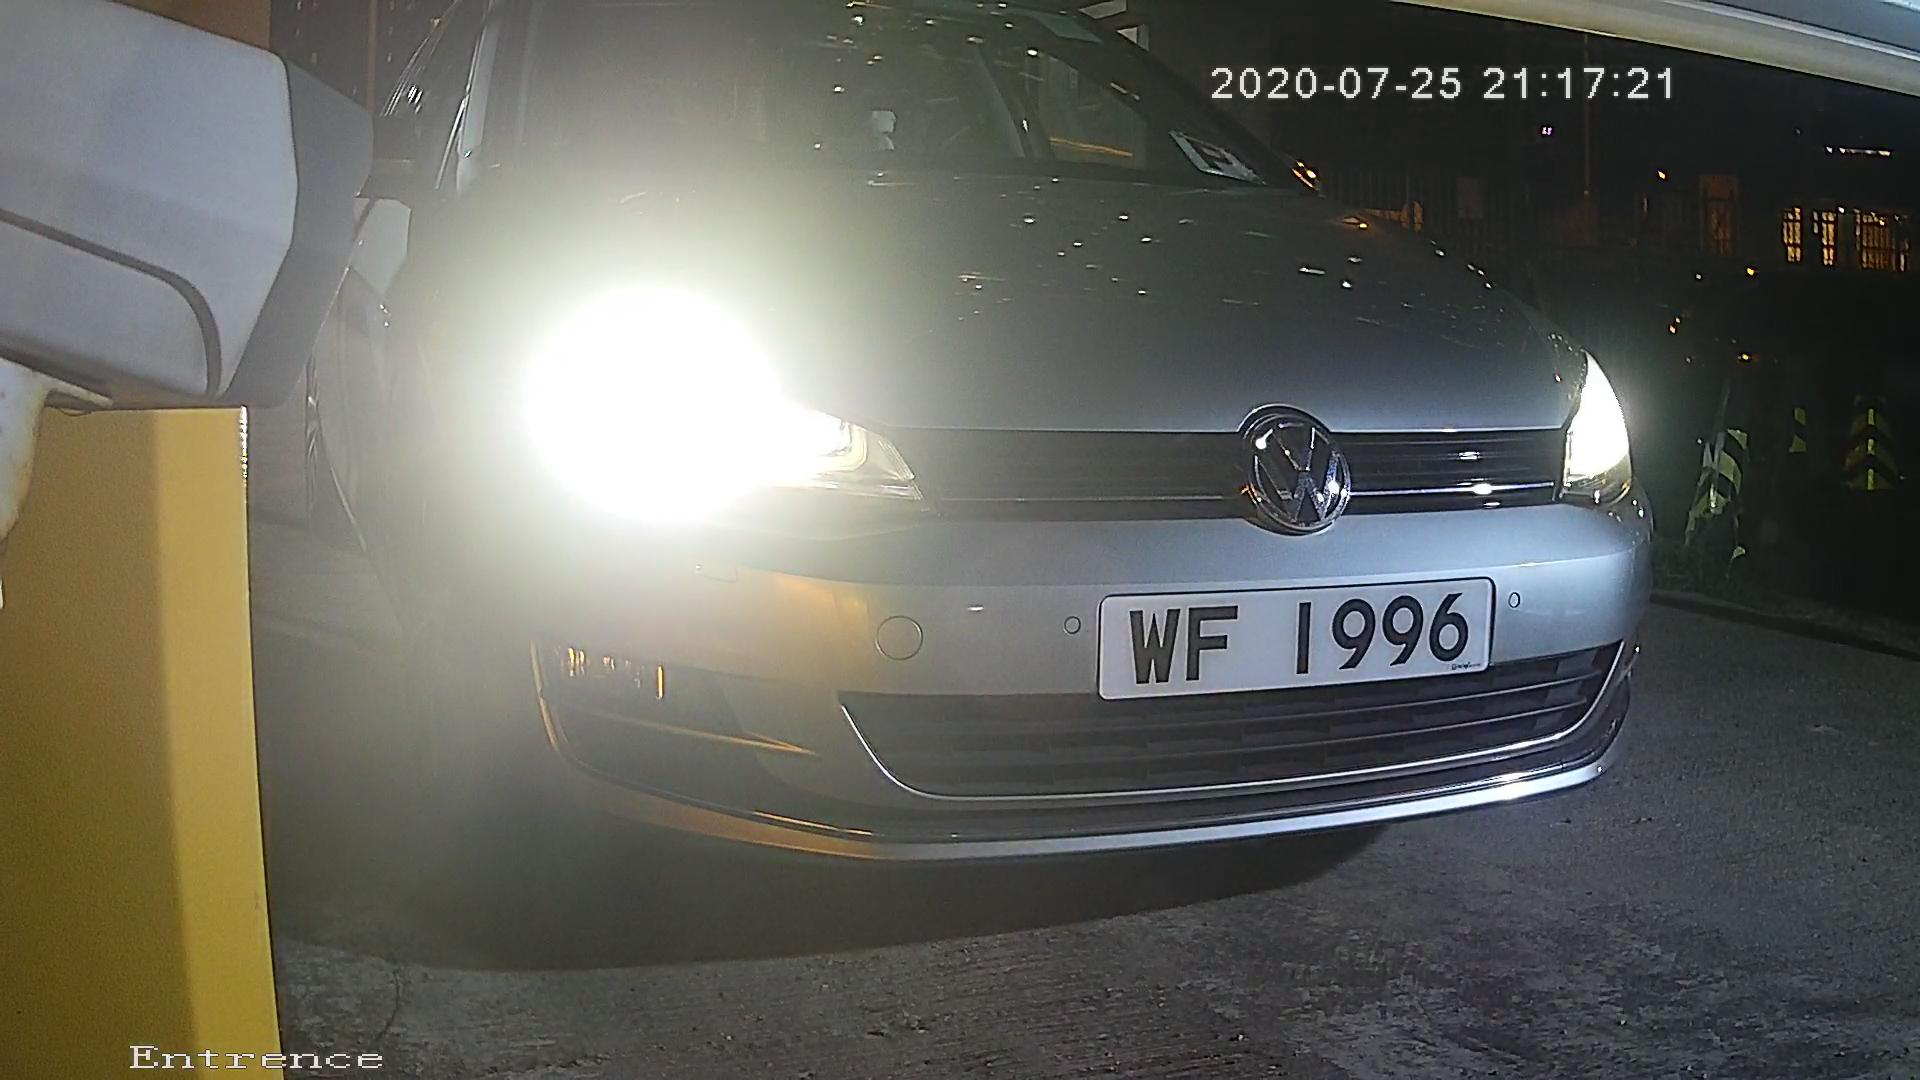Car: (61, 29, 1783, 931)
License Plate: (1063, 565, 1535, 714)
